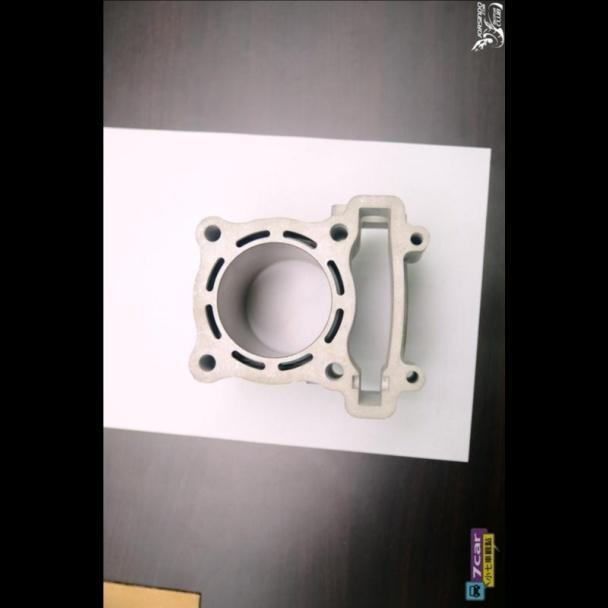hole: (322, 360, 345, 382), (328, 221, 348, 243), (201, 222, 222, 242), (197, 351, 216, 371), (407, 229, 424, 244), (402, 370, 418, 384)
